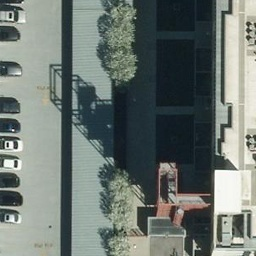car: (1, 155, 24, 170), (1, 174, 24, 189), (1, 191, 24, 206), (1, 136, 23, 150), (1, 10, 25, 22), (1, 99, 21, 113), (1, 118, 21, 132), (1, 211, 22, 224), (1, 64, 22, 76), (1, 29, 20, 41)
